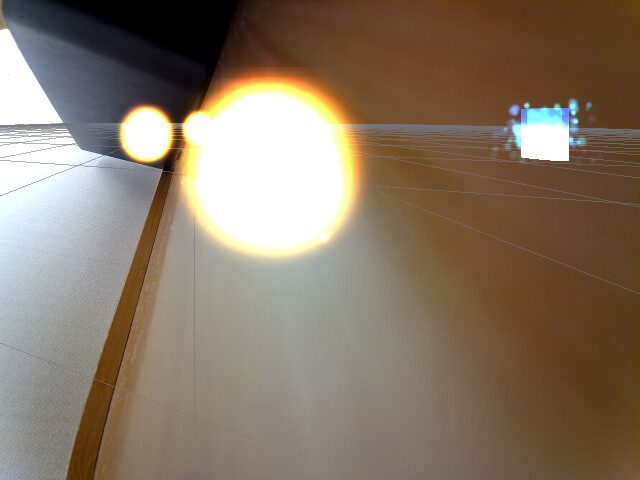firebig: (209, 66, 369, 276)
